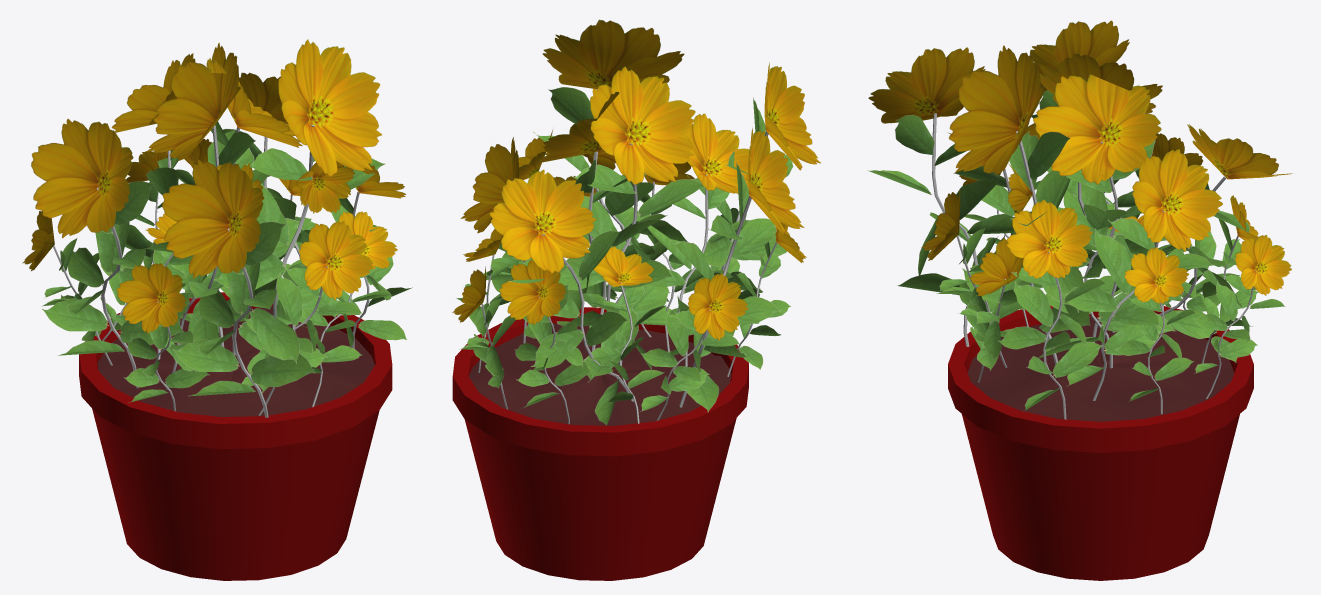
Rendered from flower.glb.
3 renders of one model, left to right at view 1: azimuth 30°, elevation 25°; view 2: azimuth 150°, elevation 25°; view 3: azimuth 270°, elevation 25°, orthographic. The views are drawn at different scales.
Visible parts, largest first — view 1: pCylinder1, pPlane24, pPlane112, pPlane68, pPlane79, pPlane134, pPlane90, pPlane1, pPlane57, pPlane12, pPlane117, pPlane123 (+27 smaller); view 2: pCylinder1, pPlane79, pPlane57, pPlane24, pPlane46, pPlane112, pPlane68, pPlane178, pPlane189, pPlane35, pPlane1, pPlane101 (+28 smaller); view 3: pCylinder1, pPlane1, pPlane24, pPlane35, pPlane112, pPlane145, pPlane68, pPlane167, pPlane57, pPlane156, pPlane79, pPlane123 (+24 smaller).
Part boxes in pixels (x1,y1,x2,y2): pCylinder1: (79, 292, 392, 580); pPlane24: (278, 39, 381, 176); pPlane112: (162, 159, 264, 278); pPlane68: (31, 119, 133, 238); pPlane79: (146, 42, 240, 160); pPlane134: (299, 221, 373, 300); pPlane90: (116, 263, 185, 333); pPlane1: (206, 58, 302, 147); pPlane57: (111, 53, 195, 132); pPlane12: (296, 162, 355, 213); pPlane117: (250, 308, 299, 363); pPlane123: (338, 211, 397, 269); pCylinder1: (452, 307, 748, 580); pPlane79: (590, 66, 695, 184); pPlane57: (489, 169, 596, 273); pPlane24: (542, 19, 684, 89); pPlane46: (683, 113, 749, 193); pPlane112: (764, 62, 820, 170); pPlane68: (747, 128, 804, 234); pPlane178: (499, 259, 566, 325); pPlane189: (688, 273, 748, 340); pPlane35: (460, 137, 519, 233); pPlane1: (537, 92, 619, 162); pPlane101: (593, 246, 653, 287); pCylinder1: (948, 305, 1253, 580); pPlane1: (1033, 74, 1161, 184); pPlane24: (949, 45, 1045, 174); pPlane35: (1132, 149, 1222, 251); pPlane112: (868, 47, 985, 123); pPlane145: (1006, 199, 1092, 278); pPlane68: (1030, 20, 1129, 91); pPlane167: (1124, 247, 1189, 303); pPlane57: (1187, 124, 1292, 179); pPlane156: (1235, 235, 1291, 295); pPlane79: (1038, 53, 1162, 113); pPlane123: (968, 238, 1023, 296).
Size of the model in its own units: 5.17 by 6.98 by 5.68.
Materials: 5 (2 with a texture image).
